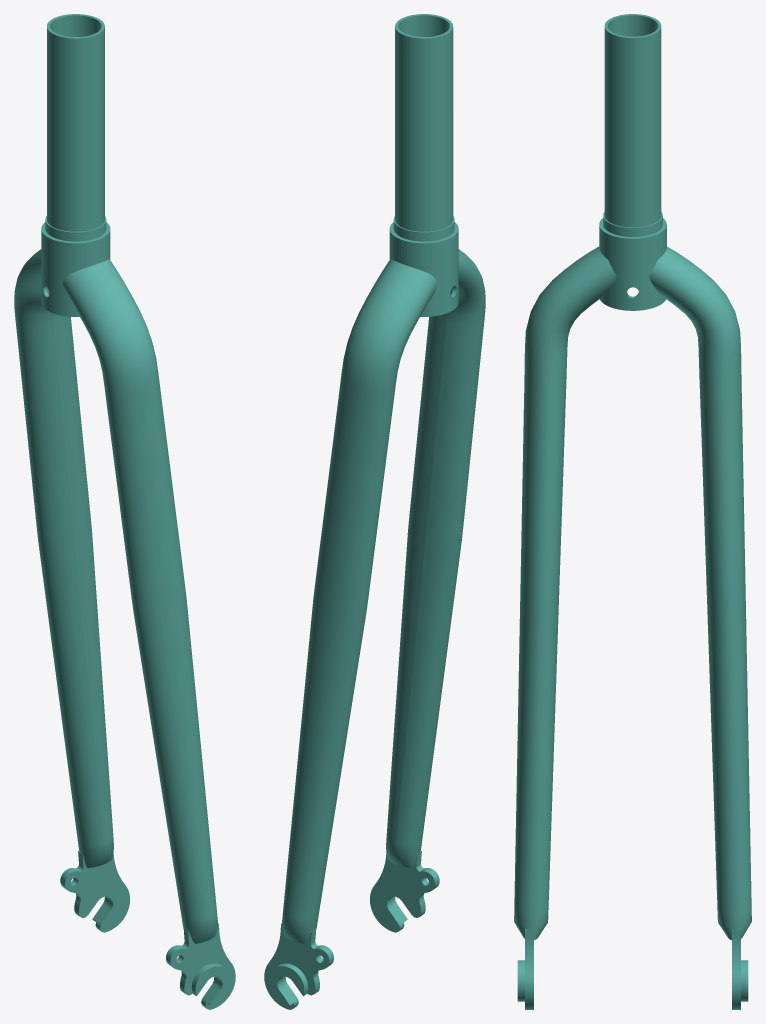
The model's file is Fork.glb.
3 views of the same model, side by side, from view 1: azimuth 30°, elevation 25°; view 2: azimuth 150°, elevation 25°; view 3: azimuth 270°, elevation 25° (orthographic). The views are drawn at different scales.
Visible parts, largest first — view 1: no_transformations (×2); view 2: no_transformations (×2); view 3: no_transformations (×2).
Boxes of the visible parts, bbox=[...] form: no_transformations (×2): bbox=[14, 14, 235, 1009]; no_transformations (×2): bbox=[264, 14, 485, 1009]; no_transformations (×2): bbox=[514, 14, 751, 1009].
Bounding box in the file's own units: 76.59 × 523 × 120.
